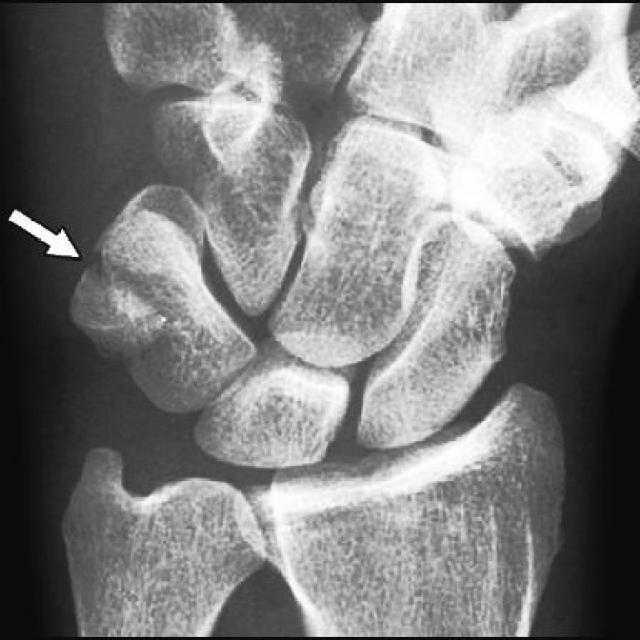Fracture: (56, 243, 182, 362)
